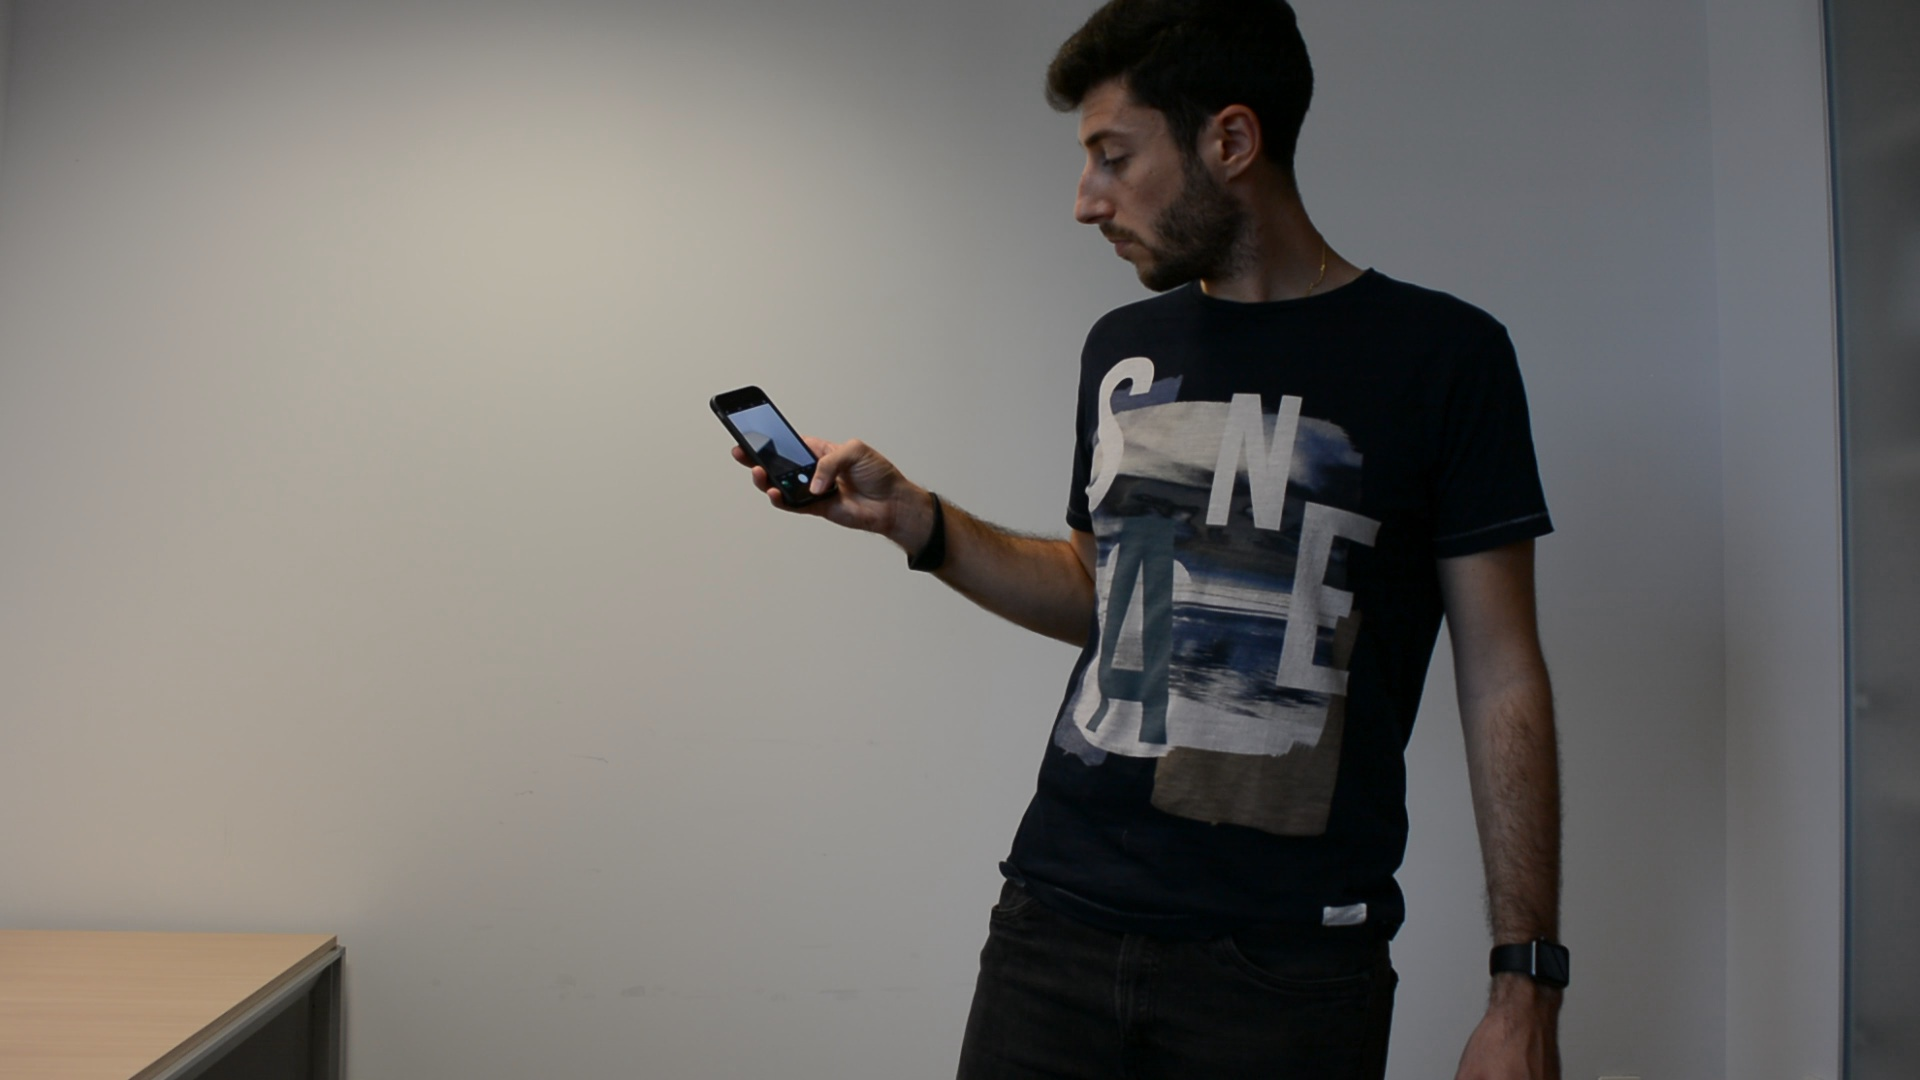smartphone: (708, 381, 841, 510)
